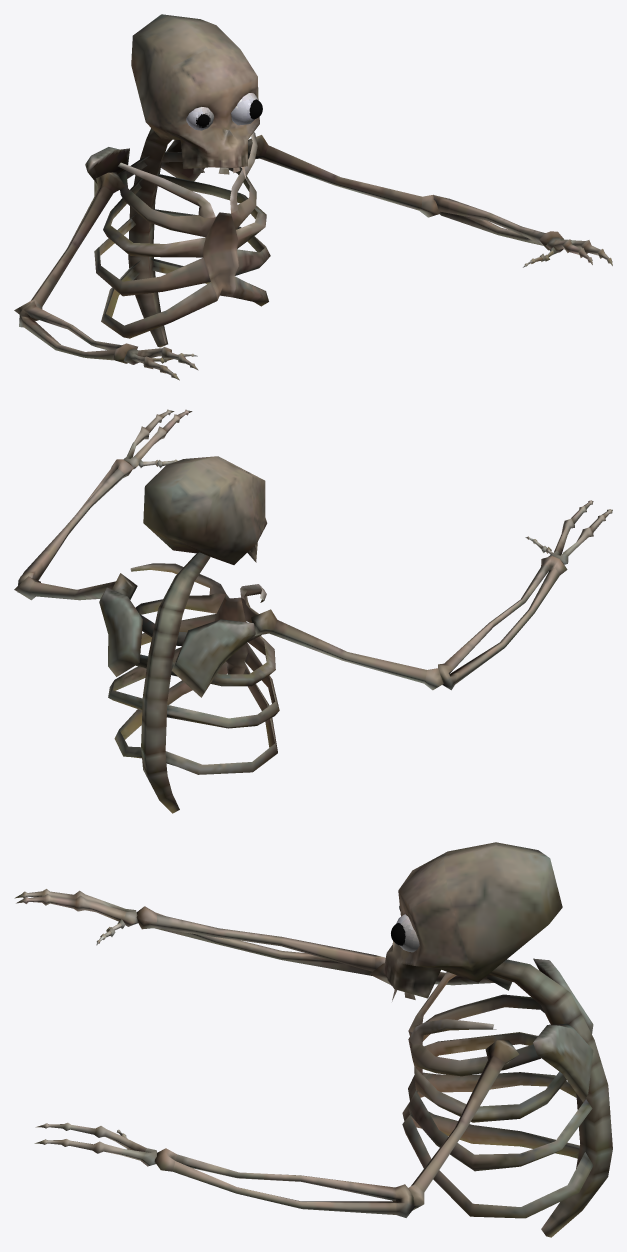
Rendered from Enemy1.fbx.
3 renders of one model, top to bottom at view 1: azimuth 30°, elevation 25°; view 2: azimuth 150°, elevation 25°; view 3: azimuth 270°, elevation 25°, orthographic. The views are drawn at different scales.
Parts seen in each view (by area): view 1: FloatingChaseSkeletonBones, Skull, Arms_1_L, Arms_1_R, Arms_2_L, Arms_2_R, Hands_1_low, Shoulder_R, BulgingGooglyEyes_1, Hands_L, Shoulder_L; view 2: FloatingChaseSkeletonBones, Skull, Shoulder_R, Arms_2_R, Arms_1_R, Shoulder_L, Arms_2_L, Arms_1_L, Hands_L, Hands_1_low; view 3: FloatingChaseSkeletonBones, Skull, Arms_2_L, Arms_2_R, Arms_1_L, Shoulder_L, Hands_1_low, Hands_L, Arms_1_R, Shoulder_R.
Boxes of the visible parts, bbox=[...] form: FloatingChaseSkeletonBones: bbox=[94, 128, 270, 347]; Skull: bbox=[131, 14, 259, 179]; Arms_1_L: bbox=[248, 135, 440, 217]; Arms_1_R: bbox=[14, 172, 125, 321]; Arms_2_L: bbox=[433, 195, 563, 250]; Arms_2_R: bbox=[19, 301, 137, 363]; Hands_1_low: bbox=[123, 347, 198, 380]; Shoulder_R: bbox=[85, 147, 129, 195]; BulgingGooglyEyes_1: bbox=[186, 93, 258, 130]; Hands_L: bbox=[545, 237, 612, 265]; Shoulder_L: bbox=[161, 140, 204, 181]; FloatingChaseSkeletonBones: bbox=[108, 552, 279, 813]; Skull: bbox=[143, 456, 267, 564]; Shoulder_R: bbox=[171, 619, 255, 697]; Arms_2_R: bbox=[438, 556, 567, 690]; Arms_1_R: bbox=[251, 609, 443, 690]; Shoulder_L: bbox=[99, 587, 142, 676]; Arms_2_L: bbox=[17, 459, 133, 592]; Arms_1_L: bbox=[14, 573, 137, 600]; Hands_L: bbox=[123, 409, 192, 469]; Hands_1_low: bbox=[525, 500, 612, 564]; FloatingChaseSkeletonBones: bbox=[402, 959, 612, 1237]; Skull: bbox=[383, 842, 562, 1001]; Arms_2_L: bbox=[154, 1148, 415, 1217]; Arms_2_R: bbox=[136, 906, 385, 975]; Arms_1_L: bbox=[392, 1040, 519, 1210]; Shoulder_L: bbox=[533, 1023, 593, 1102]; Hands_1_low: bbox=[14, 889, 138, 945]; Hands_L: bbox=[34, 1122, 157, 1166]; Arms_1_R: bbox=[369, 963, 511, 990]; Shoulder_R: bbox=[533, 958, 593, 1033].
Bounding box in the file's own units: 348 × 249 × 345.
